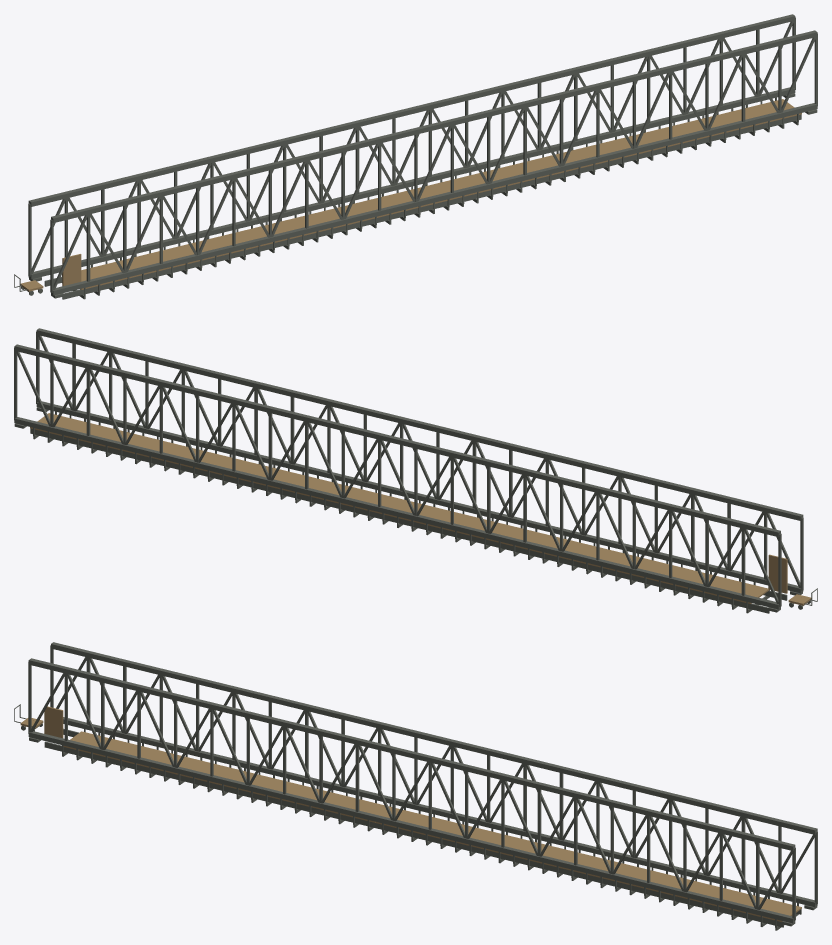
The model's file is bridge.glb.
The picture shows the model from 3 angles, top to bottom: view 1: azimuth 30°, elevation 25°; view 2: azimuth 150°, elevation 25°; view 3: azimuth 330°, elevation 25°; orthographic projection.
Visible parts, largest first — view 1: bridge-iron.004, bridge-timber.004; view 2: bridge-iron.004, bridge-timber.004; view 3: bridge-iron.004, bridge-timber.004.
Part boxes in pixels (<box>): bridge-iron.004: <box>28,14,817,299</box>; bridge-timber.004: <box>80,99,801,289</box>; bridge-iron.004: <box>14,328,803,613</box>; bridge-timber.004: <box>30,413,769,603</box>; bridge-iron.004: <box>28,642,817,930</box>; bridge-timber.004: <box>63,731,801,921</box>.
Size of the model in its own units: 43.37 by 4.7 by 2.5.
